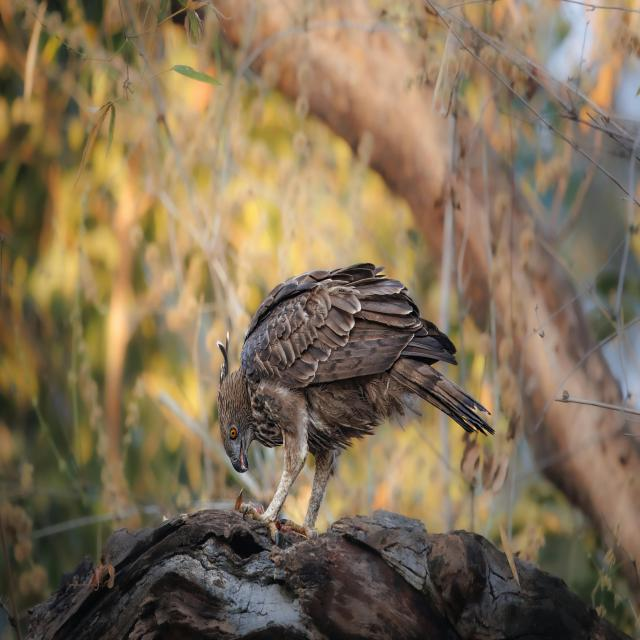Elang Jawa: (162, 238, 509, 564)
